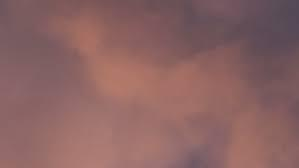smoke: (11, 0, 285, 161)
